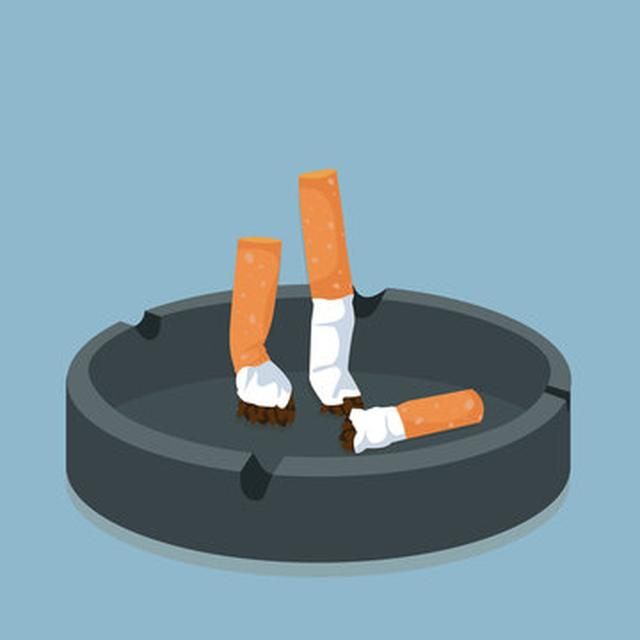Cigarette: (297, 167, 362, 406), (228, 235, 292, 408), (347, 386, 484, 454)
